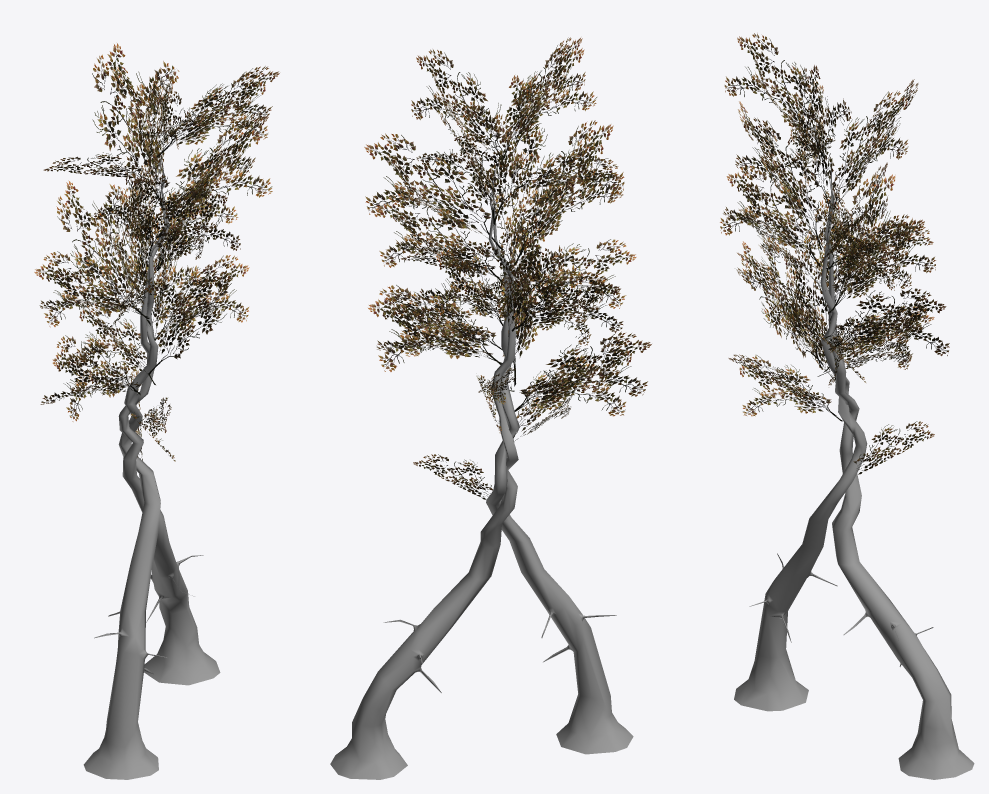
The model's file is lunntree_lod1.fbx.
3 views of the same model, side by side, from view 1: azimuth 30°, elevation 25°; view 2: azimuth 150°, elevation 25°; view 3: azimuth 270°, elevation 25° (orthographic).
Visible parts, largest first — view 1: Default_Layer; view 2: Default_Layer; view 3: Default_Layer.
Part boxes in pixels (bbox=[...]): Default_Layer: bbox=[34, 43, 279, 779]; Default_Layer: bbox=[330, 37, 651, 779]; Default_Layer: bbox=[720, 33, 974, 779].
Bounding box in the file's own units: 629 × 1428 × 503.
